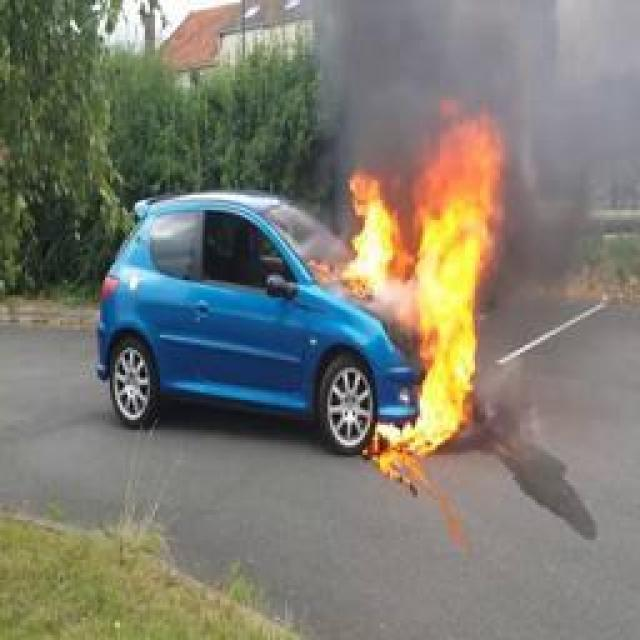Fire: (349, 95, 509, 455)
